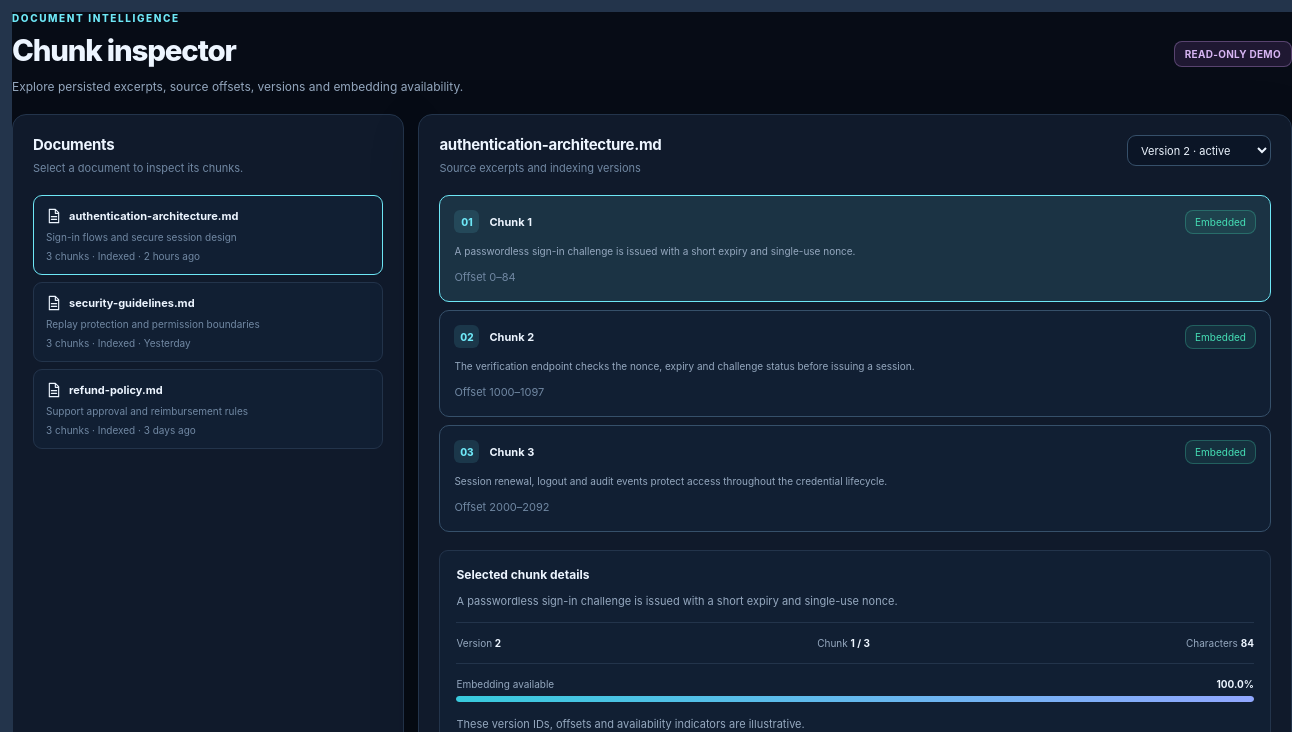
chunk inspector preview › switches documents and allows historical version inspection
The width and height of the screenshot is (1292, 732).
Click the button "security-guidelines.md" at (208, 322), box [33,282,384,362]
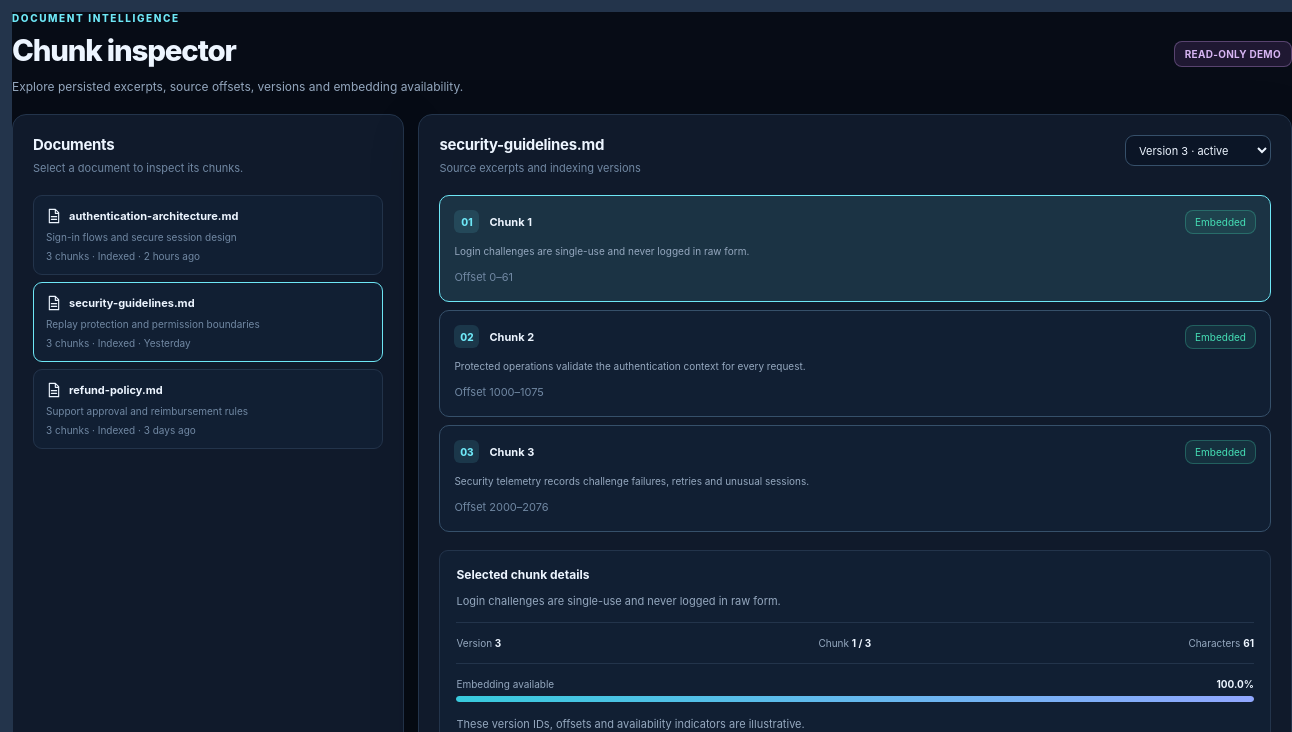
Result: the heading "security-guidelines.md" is shown at [440,135,604,154]
Select "Version 1 · historical" in the dropdown named "Chunk version" at (1198, 150), box [1125,135,1271,166]
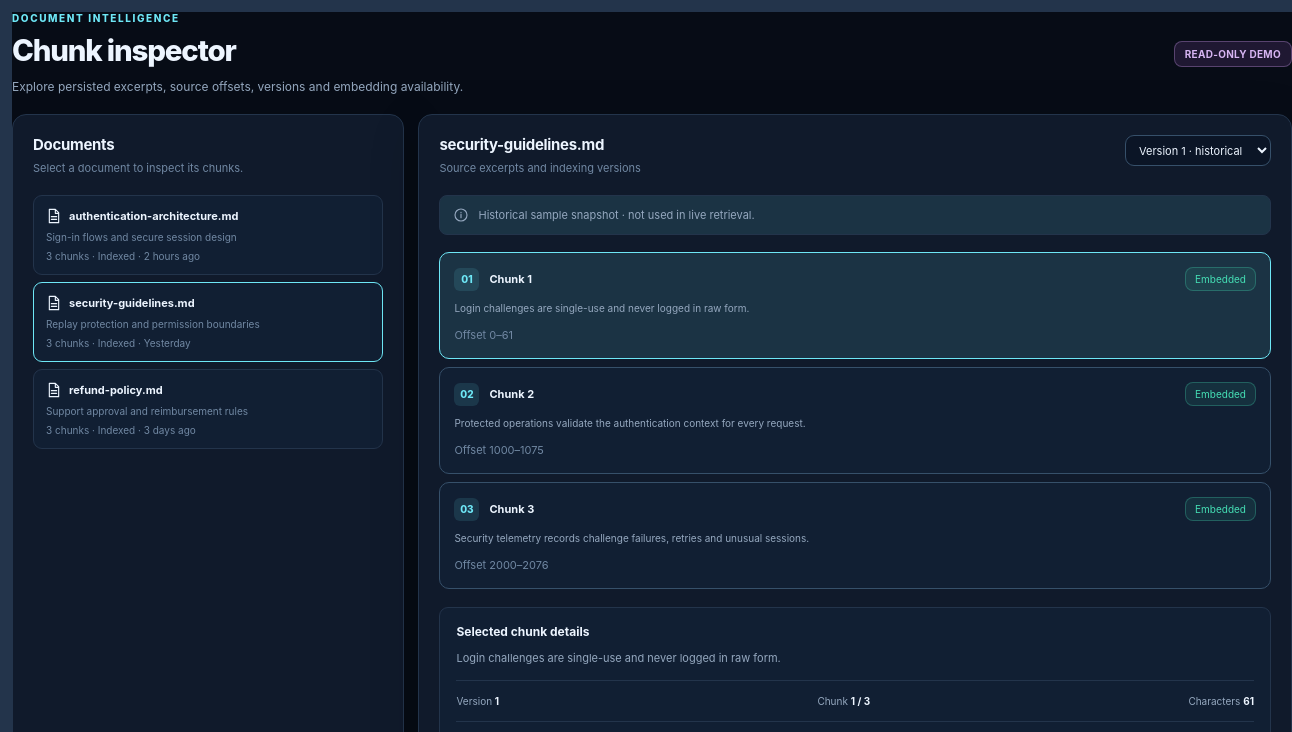
Result: the text "Historical sample snapshot · not used in live retrieval." is shown at [440,194,1271,235]
